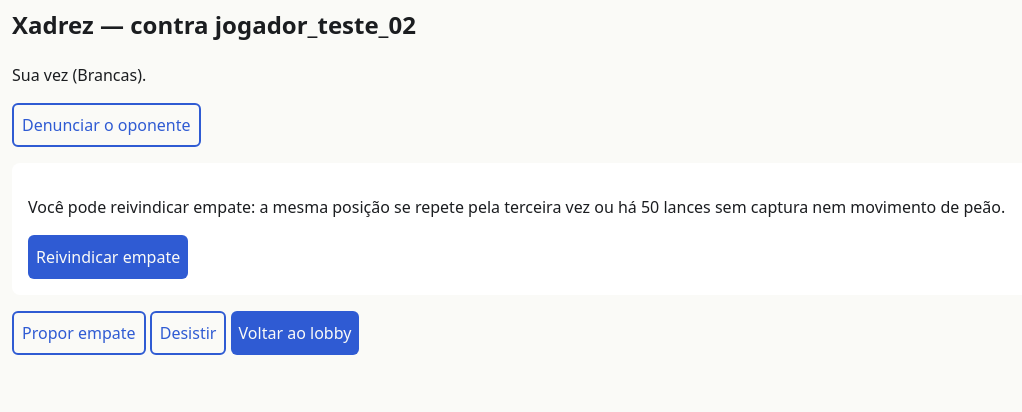
o erro do servidor ao reivindicar é mostrado ao jogador
The width and height of the screenshot is (1022, 412).
Click the button "Reivindicar empate". click: (108, 257)
box: [28, 235, 188, 279]
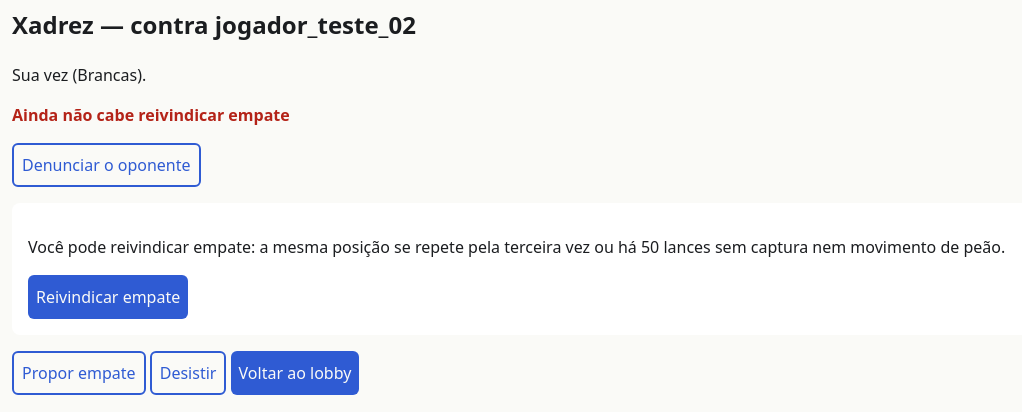
Result: the text "Ainda não cabe reivindicar empate" is shown at [12, 104, 290, 126]
